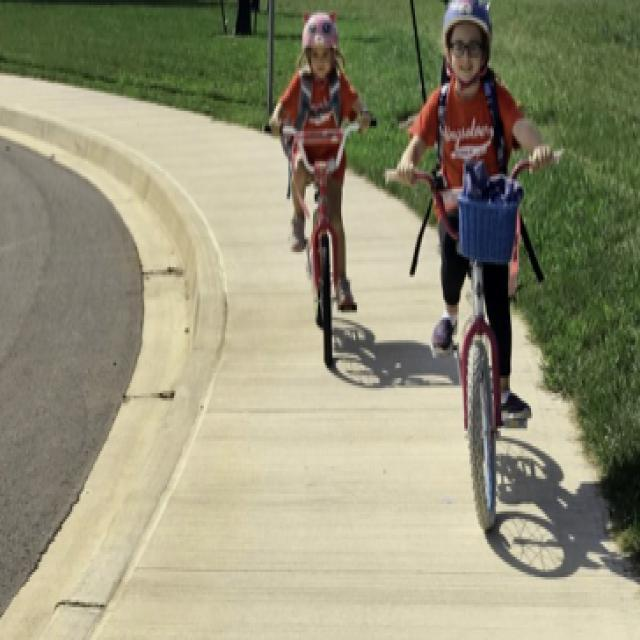Helmet: (431, 0, 503, 93), (292, 0, 343, 88)
